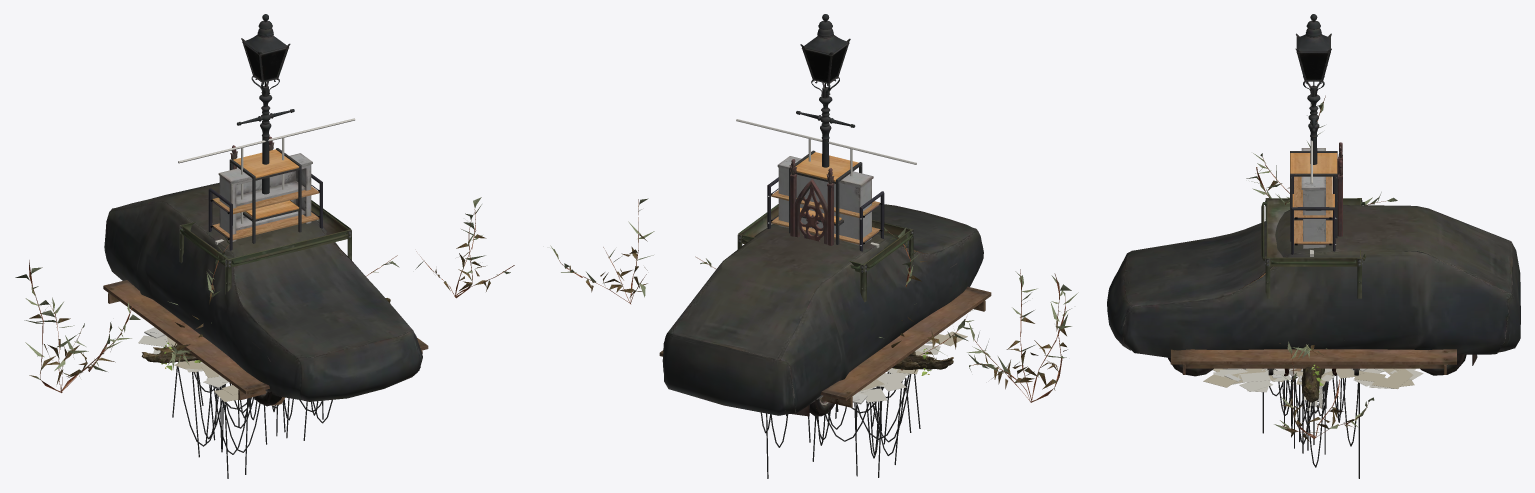
Rendered from props.glb.
3 views of the same model, side by side, from view 1: azimuth 30°, elevation 25°; view 2: azimuth 150°, elevation 25°; view 3: azimuth 270°, elevation 25° (orthographic). The views are drawn at different scales.
Parts seen in each view (by area): view 1: covered_car|all, wooden_picnic_table|all, shrub_02|all, Shelf_01|all, street_lamp_01|all, industrial_storage_cart|all, steel_frame_shelves_02|all, drawer_cabinet|drawer_cabinet, drawer_cabinet|all, UF|ward|cables_5, UF|ward|conduit_6; view 2: covered_car|all, wooden_picnic_table|all, shrub_02|all, Shelf_01|all, street_lamp_01|all, WoodenChair_01|all, industrial_storage_cart|all, steel_frame_shelves_02|all, drawer_cabinet|all, UF|ward|cables_5, drawer_cabinet|drawer_cabinet, dead_tree_trunk|all (+1 smaller); view 3: covered_car|all, wooden_picnic_table|all, industrial_storage_cart|all, street_lamp_01|all, shrub_02|all, steel_frame_shelves_02|all, Shelf_01|all, drawer_cabinet|drawer_cabinet, drawer_cabinet|all, UF|ward|litter_2, dead_tree_trunk|all, UF|ward|litter_1 (+3 smaller).
Part boxes in pixels (left/top/right/bottom): covered_car|all: left=104, top=182, right=422, bottom=406; wooden_picnic_table|all: left=103, top=280, right=428, bottom=405; shrub_02|all: left=15, top=197, right=514, bottom=392; Shelf_01|all: left=218, top=153, right=312, bottom=241; street_lamp_01|all: left=237, top=14, right=294, bottom=194; industrial_storage_cart|all: left=179, top=200, right=351, bottom=294; steel_frame_shelves_02|all: left=229, top=148, right=301, bottom=243; drawer_cabinet|drawer_cabinet: left=209, top=174, right=322, bottom=250; drawer_cabinet|all: left=208, top=175, right=321, bottom=250; UF|ward|cables_5: left=205, top=384, right=267, bottom=478; UF|ward|conduit_6: left=185, top=120, right=348, bottom=189; covered_car|all: left=662, top=204, right=983, bottom=416; wooden_picnic_table|all: left=659, top=246, right=991, bottom=407; shrub_02|all: left=550, top=198, right=1078, bottom=402; Shelf_01|all: left=777, top=156, right=873, bottom=245; street_lamp_01|all: left=796, top=14, right=855, bottom=167; WoodenChair_01|all: left=789, top=159, right=834, bottom=245; industrial_storage_cart|all: left=737, top=204, right=913, bottom=302; steel_frame_shelves_02|all: left=789, top=150, right=862, bottom=244; drawer_cabinet|all: left=767, top=178, right=884, bottom=251; UF|ward|cables_5: left=812, top=374, right=920, bottom=477; drawer_cabinet|drawer_cabinet: left=768, top=177, right=883, bottom=250; dead_tree_trunk|all: left=892, top=351, right=953, bottom=369; covered_car|all: left=1107, top=205, right=1520, bottom=376; wooden_picnic_table|all: left=1170, top=260, right=1456, bottom=374; industrial_storage_cart|all: left=1261, top=198, right=1365, bottom=375; street_lamp_01|all: left=1295, top=14, right=1331, bottom=164; shrub_02|all: left=1246, top=95, right=1397, bottom=441; steel_frame_shelves_02|all: left=1290, top=151, right=1337, bottom=241; Shelf_01|all: left=1301, top=148, right=1325, bottom=248; drawer_cabinet|drawer_cabinet: left=1291, top=176, right=1335, bottom=254; drawer_cabinet|all: left=1292, top=176, right=1336, bottom=254; UF|ward|litter_2: left=1224, top=371, right=1414, bottom=386; dead_tree_trunk|all: left=1301, top=366, right=1322, bottom=402; UF|ward|litter_1: left=1203, top=368, right=1367, bottom=387.
Bounding box in the file's own units: 6.03 × 5.26 × 4.37.
Materials: 105 (78 with a texture image).
